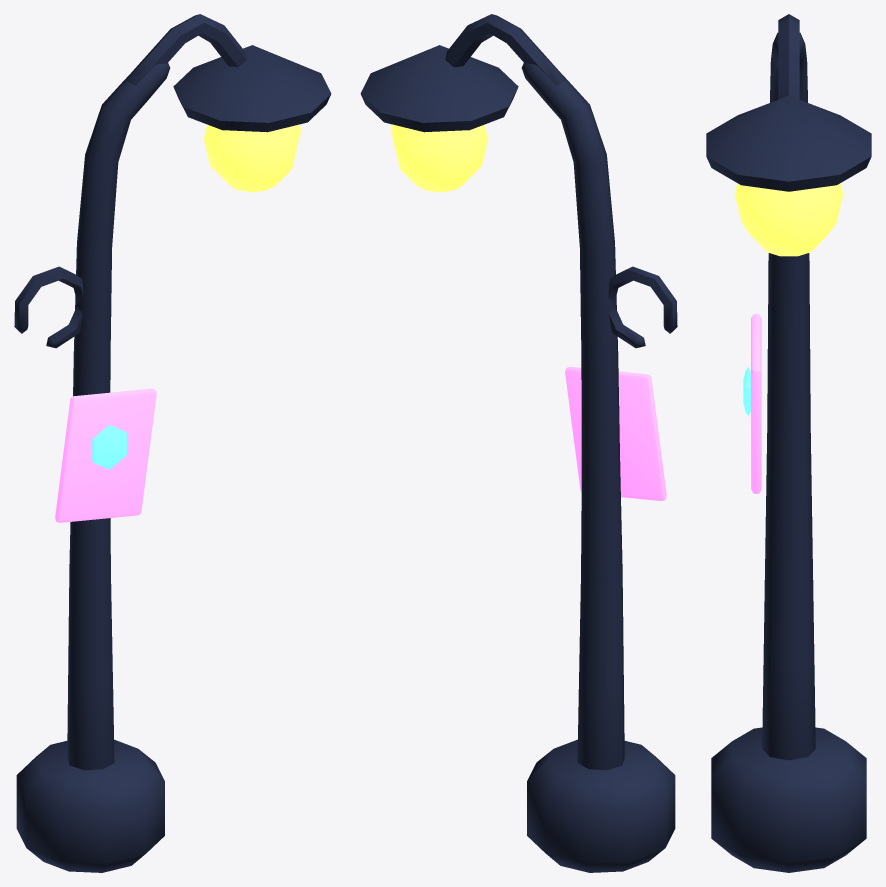
File: W1_Lamp_B.fbx
The picture shows the model from 3 angles, left to right: view 1: azimuth 30°, elevation 25°; view 2: azimuth 150°, elevation 25°; view 3: azimuth 270°, elevation 25°; orthographic projection. The views are drawn at different scales.
Visible parts, largest first — view 1: W1_Lamp_B; view 2: W1_Lamp_B; view 3: W1_Lamp_B.
Part boxes in pixels (x1=…): W1_Lamp_B: x1=14, y1=14, x2=331, y2=872; W1_Lamp_B: x1=360, y1=14, x2=677, y2=872; W1_Lamp_B: x1=706, y1=14, x2=871, y2=872.
Bounding box in the file's own units: 1.42 × 3.59 × 0.6087.
